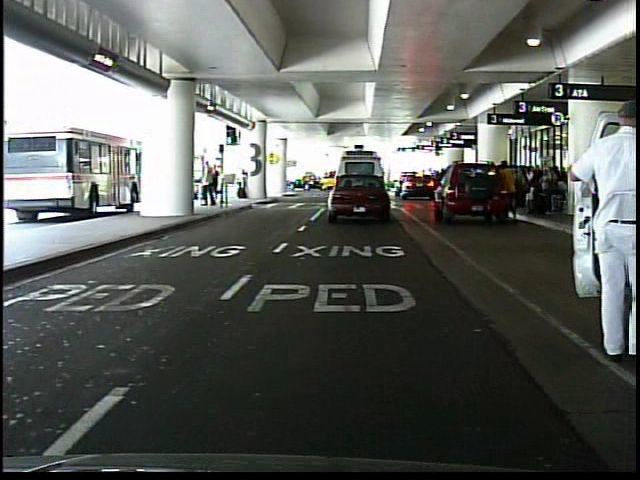person: (560, 96, 638, 365), (588, 149, 618, 228), (502, 158, 521, 223), (200, 155, 218, 210), (209, 162, 223, 208), (237, 166, 254, 203)
